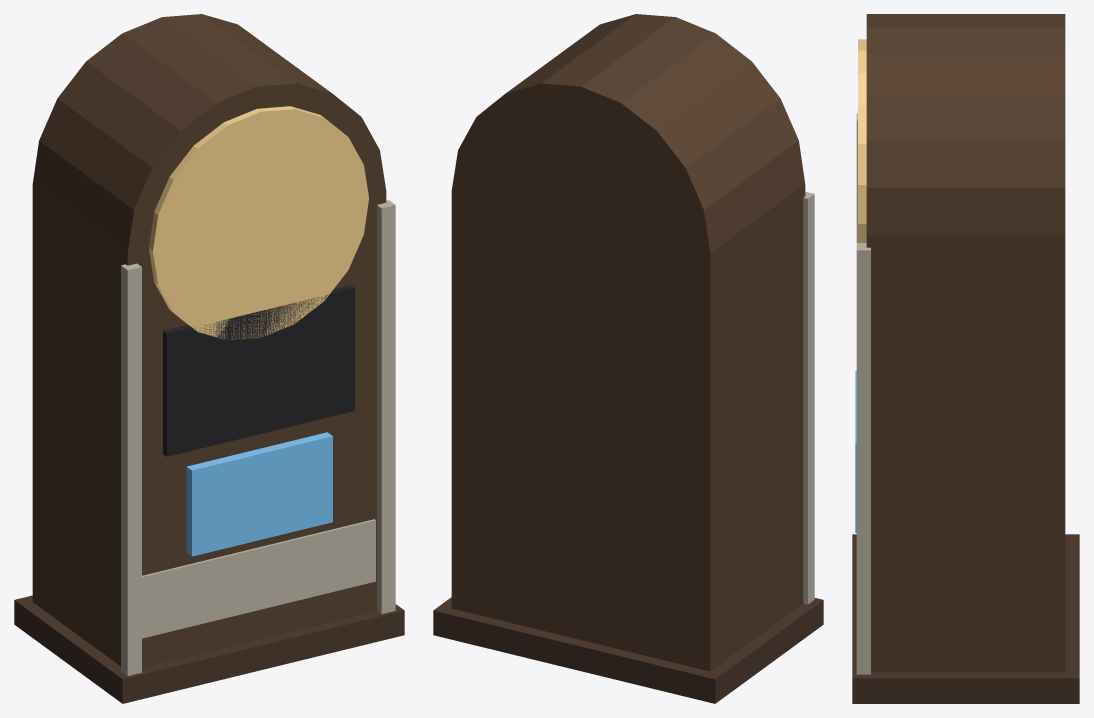
The model's file is Jukebox.fbx.
The picture shows the model from 3 angles, left to right: view 1: azimuth 30°, elevation 25°; view 2: azimuth 150°, elevation 25°; view 3: azimuth 270°, elevation 25°; orthographic projection. The views are drawn at different scales.
Visible parts, largest first — view 1: Jukebox; view 2: Jukebox; view 3: Jukebox.
Part boxes in pixels (x1=…): Jukebox: x1=14, y1=14, x2=404, y2=703; Jukebox: x1=433, y1=14, x2=823, y2=703; Jukebox: x1=852, y1=14, x2=1079, y2=703.
Size of the model in its own units: 1.2 by 2.35 by 0.8.
